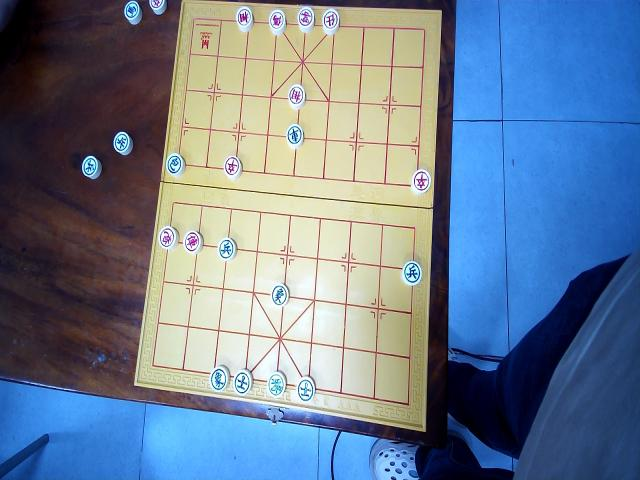piece: (410, 168, 431, 195), (209, 366, 229, 394), (166, 151, 186, 178), (266, 371, 286, 398), (232, 369, 252, 396), (402, 259, 422, 286), (222, 154, 242, 180), (296, 375, 314, 403), (182, 229, 202, 254), (158, 224, 178, 249), (287, 82, 306, 108), (296, 6, 314, 33), (322, 7, 339, 34), (268, 7, 285, 34), (236, 5, 253, 32), (286, 123, 304, 148), (218, 236, 236, 260), (271, 282, 289, 306), (123, 0, 141, 24), (148, 0, 166, 15)
